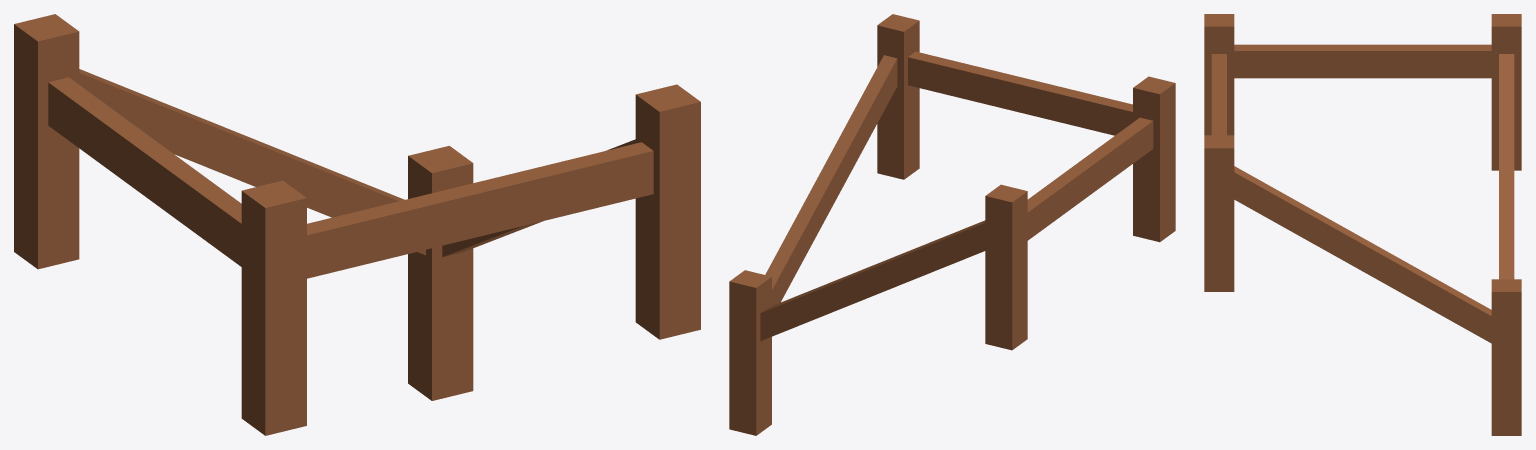
Rendered from ObstacleSmallCornerDownWards.obj.
3 renders of one model, left to right at view 1: azimuth 30°, elevation 25°; view 2: azimuth 150°, elevation 25°; view 3: azimuth 270°, elevation 25°, orthographic. The views are drawn at different scales.
Visible parts, largest first — view 1: woodStructure.001_woodStructure.004; view 2: woodStructure.001_woodStructure.004; view 3: woodStructure.001_woodStructure.004.
Boxes of the visible parts, bbox=[...] form: woodStructure.001_woodStructure.004: bbox=[14, 14, 700, 435]; woodStructure.001_woodStructure.004: bbox=[729, 14, 1175, 435]; woodStructure.001_woodStructure.004: bbox=[1204, 14, 1521, 435].
Bounding box in the file's own units: 1 × 1 × 1.
